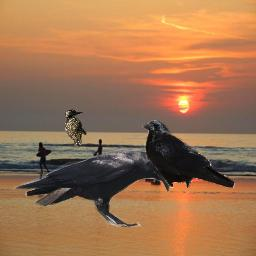Crow: (13, 149, 172, 227), (142, 120, 235, 188)
Woodpecker: (65, 109, 87, 148)
